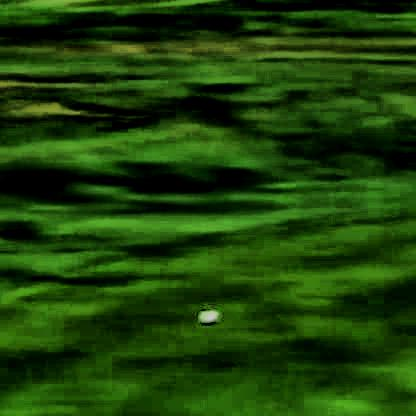golfball: (196, 307, 218, 325)
